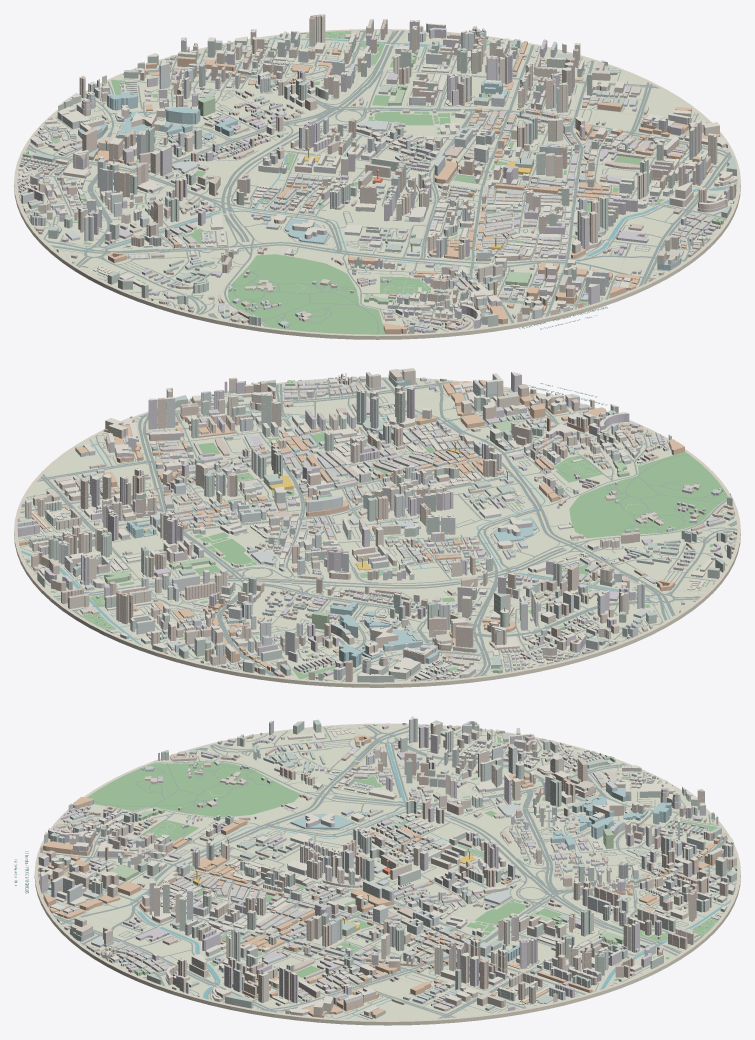
File: pek-kio-district.glb
3 renders of one model, top to bottom at view 1: azimuth 30°, elevation 25°; view 2: azimuth 150°, elevation 25°; view 3: azimuth 270°, elevation 25°, orthographic. The views are drawn at different scales.
Visible parts, largest first — view 1: ground, road, building4, building2, building1, building3, building0, roof, green, retail, edge, path (+3 smaller); view 2: ground, road, building4, building2, building1, building3, building0, roof, green, retail, edge, path (+3 smaller); view 3: ground, road, building4, building2, building1, building3, building0, roof, green, retail, edge, path (+3 smaller).
Part boxes in pixels (x1=…): ground: x1=17, y1=30, x2=736, y2=334; road: x1=18, y1=30, x2=737, y2=334; building4: x1=17, y1=14, x2=733, y2=330; building2: x1=18, y1=23, x2=736, y2=333; building1: x1=18, y1=15, x2=736, y2=333; building3: x1=18, y1=30, x2=737, y2=328; building0: x1=17, y1=20, x2=736, y2=333; roof: x1=17, y1=20, x2=737, y2=320; green: x1=33, y1=31, x2=704, y2=334; retail: x1=80, y1=41, x2=723, y2=334; edge: x1=14, y1=29, x2=740, y2=339; path: x1=20, y1=30, x2=736, y2=331; ground: x1=17, y1=378, x2=737, y2=682; road: x1=18, y1=378, x2=737, y2=681; building4: x1=17, y1=373, x2=734, y2=681; building2: x1=20, y1=376, x2=734, y2=682; building1: x1=25, y1=368, x2=737, y2=680; building3: x1=17, y1=374, x2=733, y2=680; building0: x1=18, y1=372, x2=729, y2=680; roof: x1=20, y1=372, x2=712, y2=678; green: x1=50, y1=425, x2=727, y2=678; retail: x1=19, y1=378, x2=684, y2=677; edge: x1=14, y1=377, x2=740, y2=687; path: x1=19, y1=379, x2=735, y2=681; ground: x1=38, y1=725, x2=737, y2=1020; road: x1=38, y1=724, x2=737, y2=1019; building4: x1=38, y1=725, x2=736, y2=1019; building2: x1=42, y1=719, x2=737, y2=1018; building1: x1=38, y1=723, x2=736, y2=1016; building3: x1=38, y1=719, x2=733, y2=1016; building0: x1=40, y1=724, x2=724, y2=1015; roof: x1=38, y1=716, x2=734, y2=1018; green: x1=48, y1=734, x2=736, y2=1004; retail: x1=39, y1=735, x2=735, y2=1017; edge: x1=34, y1=723, x2=740, y2=1025; path: x1=45, y1=725, x2=735, y2=1020.
Bounding box in the file's own units: 60.6 × 3.36 × 62.37.
